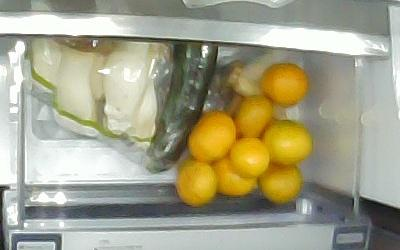tangerine: (185, 108, 236, 161), (259, 118, 313, 165), (258, 61, 309, 106), (209, 153, 258, 196), (173, 161, 217, 206), (257, 160, 302, 203), (233, 94, 275, 139)
